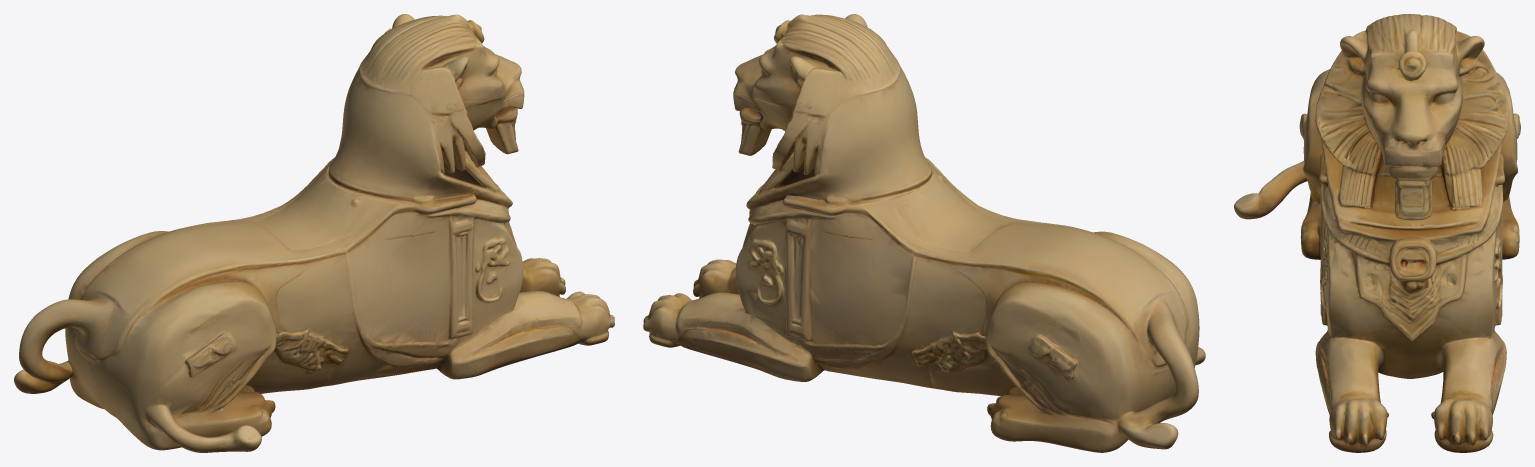
The model's file is building-sphinx.glb.
3 views of the same model, side by side, from view 1: azimuth 30°, elevation 25°; view 2: azimuth 150°, elevation 25°; view 3: azimuth 270°, elevation 25° (orthographic). The views are drawn at different scales.
Parts seen in each view (by area): view 1: tripo_node_51b3d5a6-c5e5-4da1-bcf0-b54959837b95; view 2: tripo_node_51b3d5a6-c5e5-4da1-bcf0-b54959837b95; view 3: tripo_node_51b3d5a6-c5e5-4da1-bcf0-b54959837b95.
Boxes of the visible parts, x1,y1,x2,y2 form: tripo_node_51b3d5a6-c5e5-4da1-bcf0-b54959837b95: (14, 14, 614, 452); tripo_node_51b3d5a6-c5e5-4da1-bcf0-b54959837b95: (643, 14, 1205, 452); tripo_node_51b3d5a6-c5e5-4da1-bcf0-b54959837b95: (1234, 14, 1520, 452).
Size of the model in its own units: 13.69 by 8 by 5.78.
Materials: 1 (1 with a texture image).
